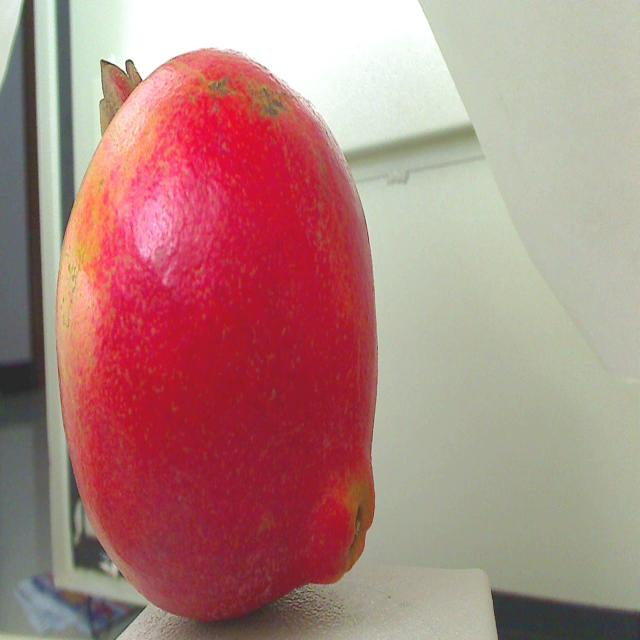pomegranate: (40, 31, 416, 640)
